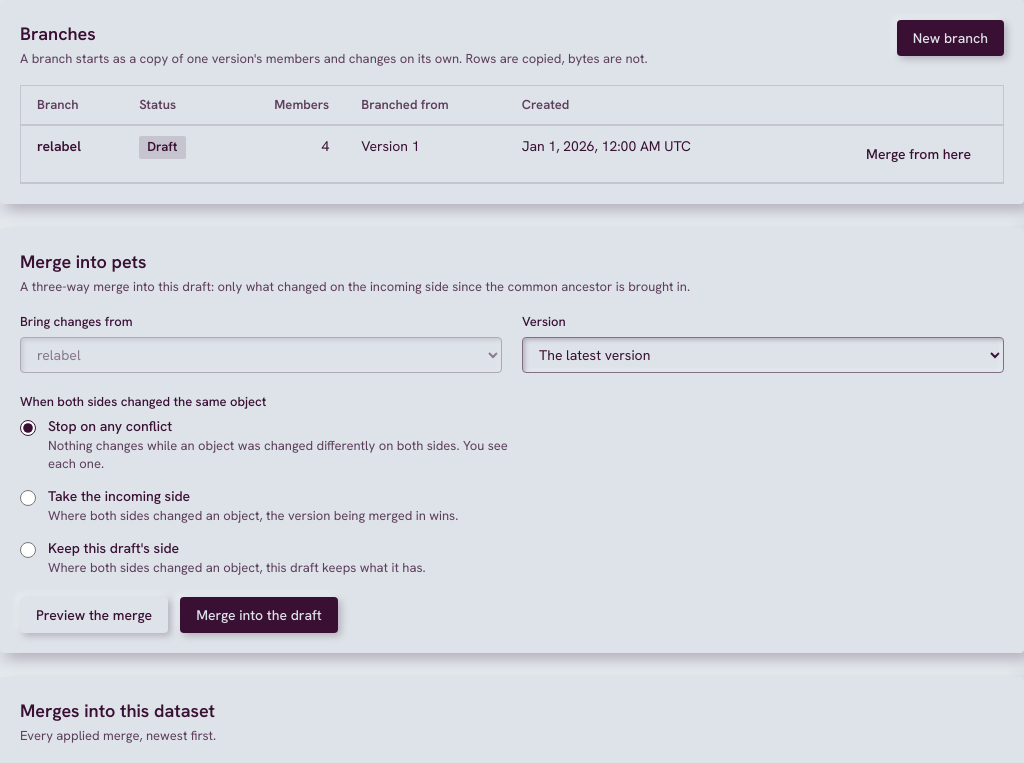
branches › previews a merge from a branch and shows its conflicts without changing anything
The width and height of the screenshot is (1024, 763).
Check: the link "Version 1" is shown, box 361,137 -> 420,155
Click the button "Preview the merge" at (94, 615), box 20,597 -> 168,633
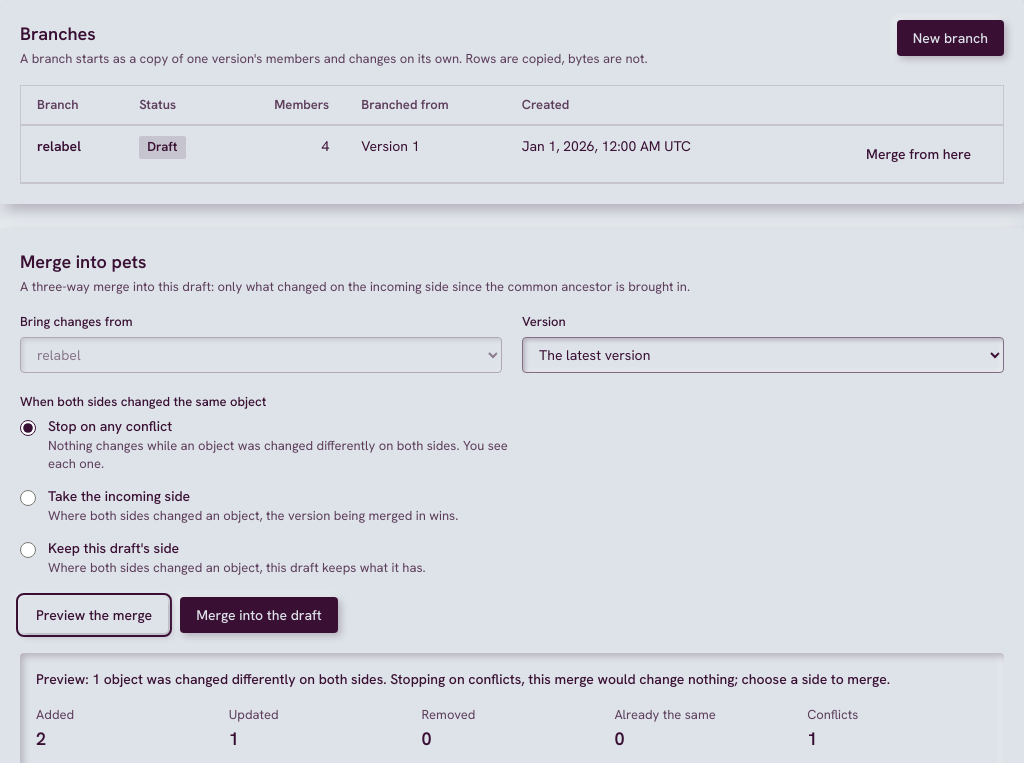
Check: the text "Preview: 1 object was changed differently" is shown, box 36,670 -> 890,688
Click the button "Merge into the draft" at (259, 615), box 180,597 -> 338,633
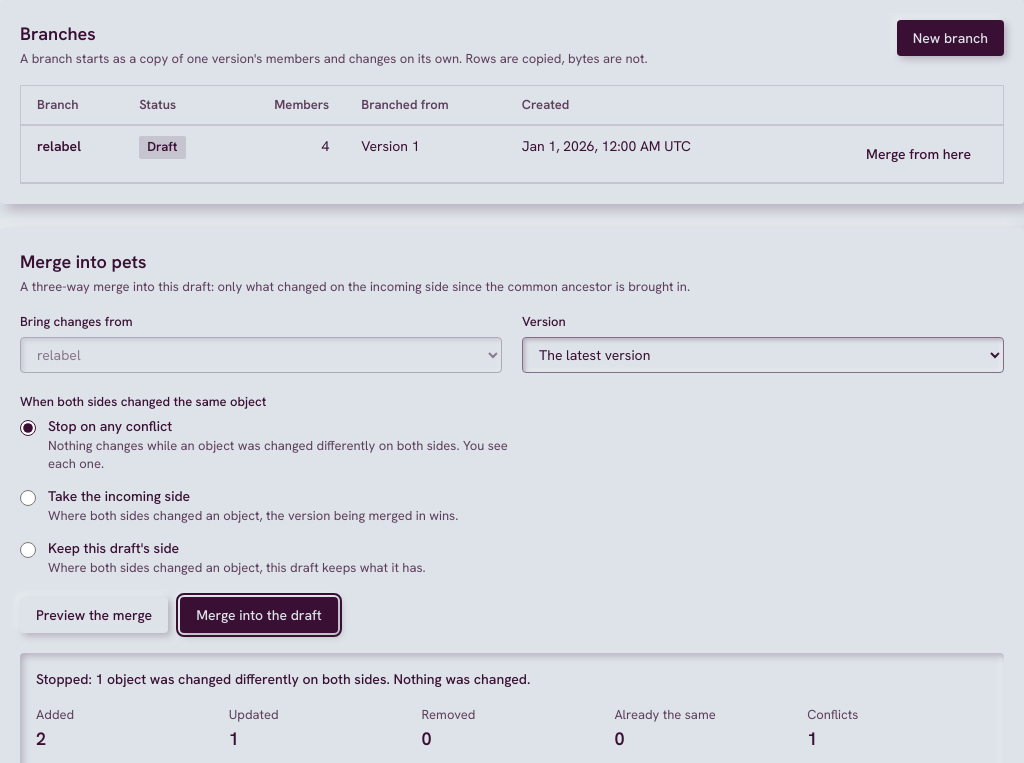
Check: the text "Stopped: 1 object was changed differently" is shown, box 36,670 -> 530,688
